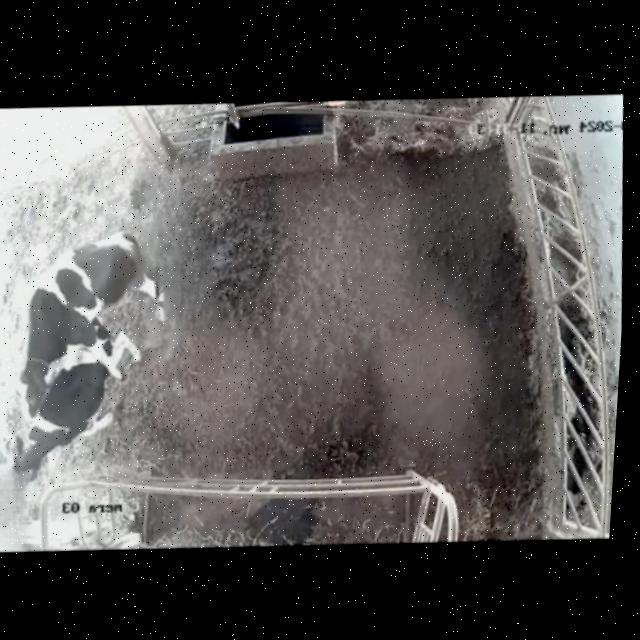ride: (0, 208, 187, 436)
stand: (0, 328, 151, 494)
